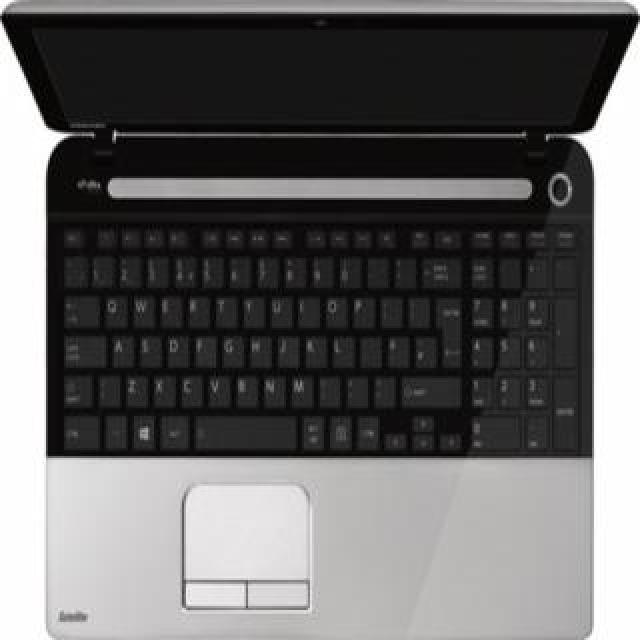laptop_computer: (2, 6, 606, 640)
